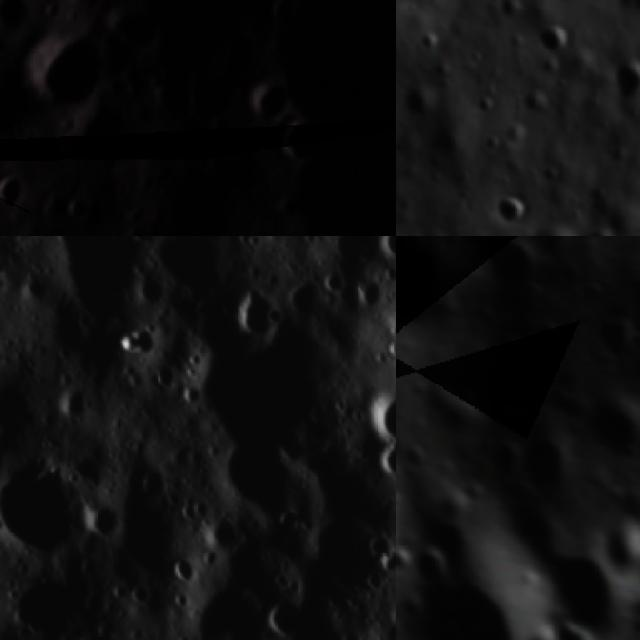crater: (164, 281, 361, 473), (396, 535, 556, 640), (0, 10, 127, 137), (0, 433, 116, 569), (194, 427, 323, 539), (527, 523, 640, 640), (0, 544, 117, 640), (396, 236, 472, 337), (507, 432, 587, 519), (260, 100, 342, 183), (215, 274, 294, 360), (471, 236, 556, 307), (311, 236, 396, 298), (577, 392, 640, 472), (232, 58, 304, 127), (346, 368, 396, 465), (36, 365, 101, 437), (114, 254, 178, 316), (399, 529, 456, 594), (251, 585, 310, 640), (591, 516, 640, 582), (277, 269, 329, 327), (57, 181, 109, 236), (0, 160, 44, 217), (358, 433, 396, 499), (79, 494, 123, 543), (357, 520, 396, 573), (0, 0, 43, 40), (489, 192, 530, 230), (53, 620, 130, 640), (166, 552, 206, 590), (605, 65, 640, 102), (370, 236, 396, 279), (123, 236, 170, 255), (533, 28, 570, 52)
